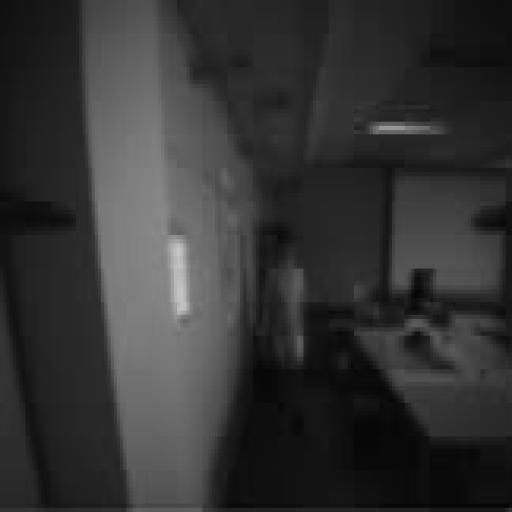human: (263, 227, 306, 428)
